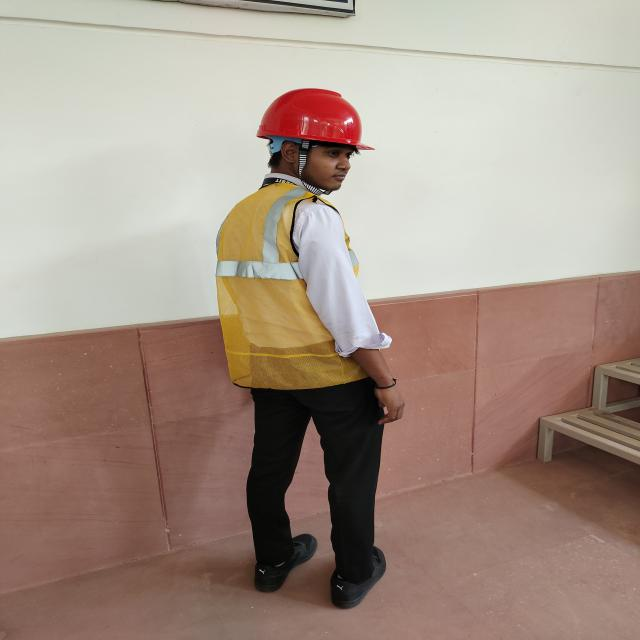safe: (218, 88, 409, 606)
